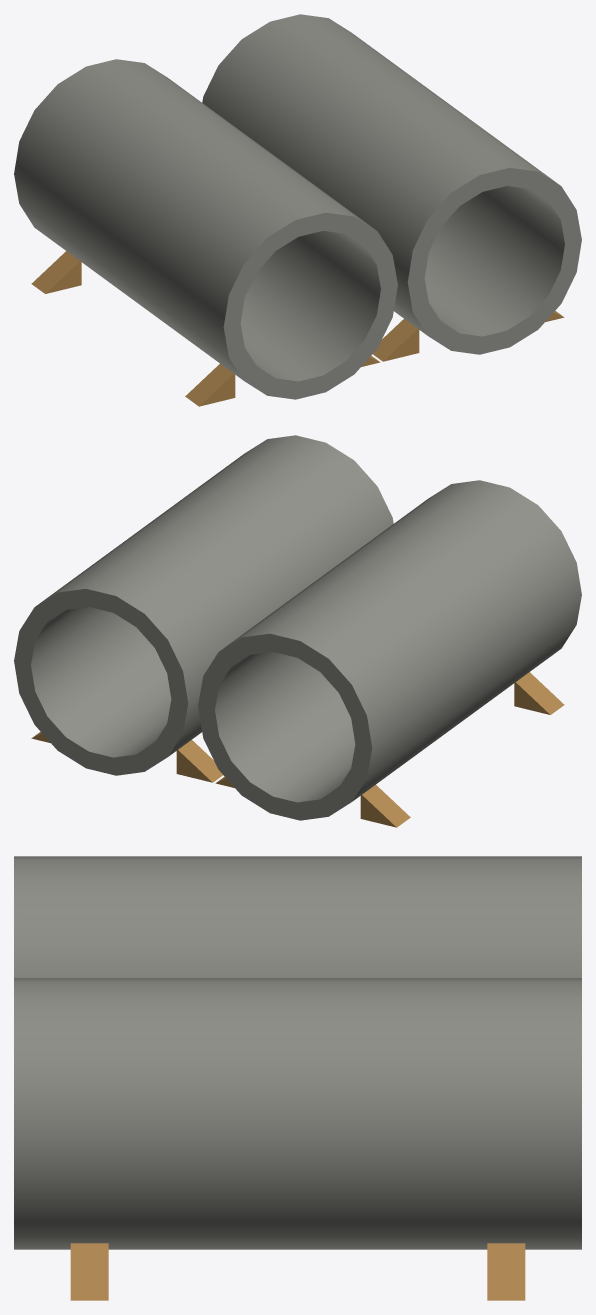
The model's file is gs-pipe-stack.glb.
3 renders of one model, top to bottom at view 1: azimuth 30°, elevation 25°; view 2: azimuth 150°, elevation 25°; view 3: azimuth 270°, elevation 25°, orthographic. The views are drawn at different scales.
Parts seen in each view (by area): view 1: gs-pipe-stack; view 2: gs-pipe-stack; view 3: gs-pipe-stack.
Boxes of the visible parts, x1,y1,x2,y2 form: gs-pipe-stack: [14, 14, 581, 406]; gs-pipe-stack: [14, 435, 581, 827]; gs-pipe-stack: [14, 856, 581, 1300].
Size of the model in its own units: 3.02 by 1.45 by 3.
